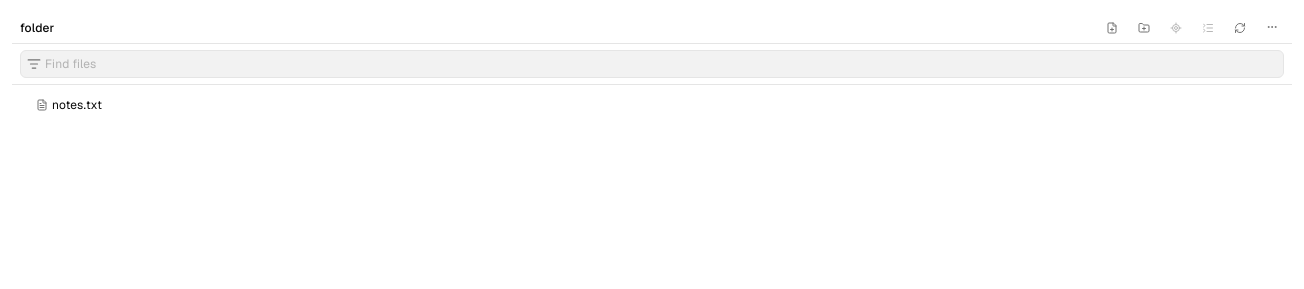
Test case: duplicate row (#334) › duplicates the row, shows the copy after reload, and opens it
The image size is (1304, 289).
Right-click the button "notes.txt" at x=77, y=105, box [12, 93, 1292, 117]
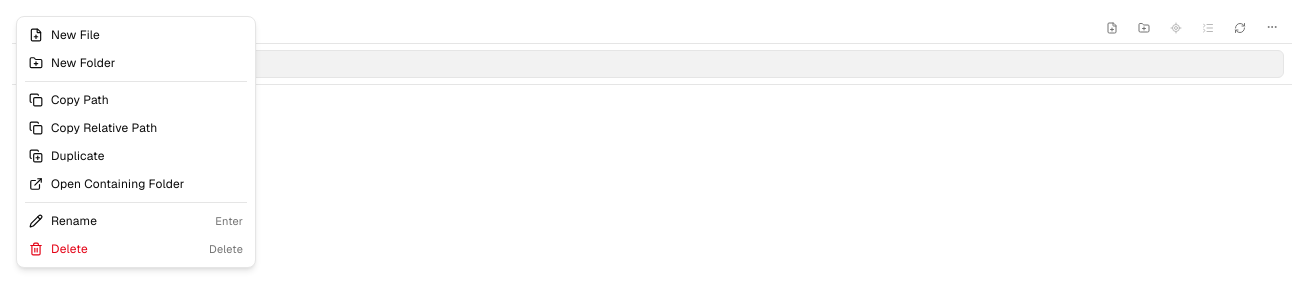
Click the menu item "Duplicate". click: x=136, y=156
box: [21, 142, 251, 170]
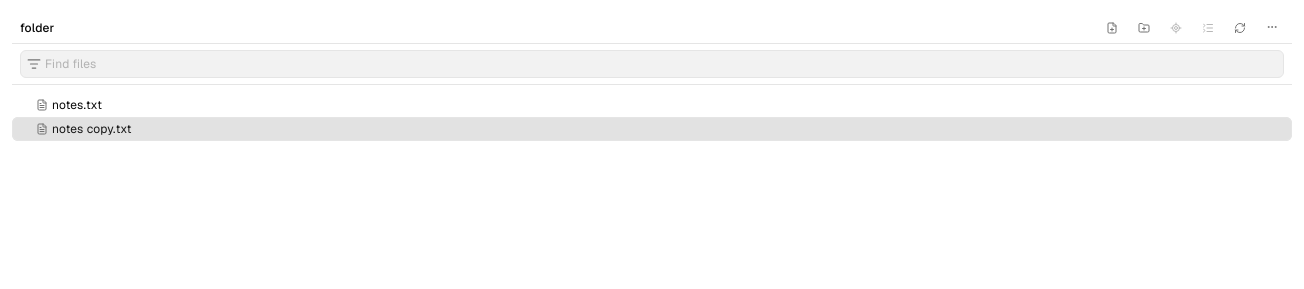
Expected: the button "notes copy.txt" is shown, [12, 117, 1292, 141]
